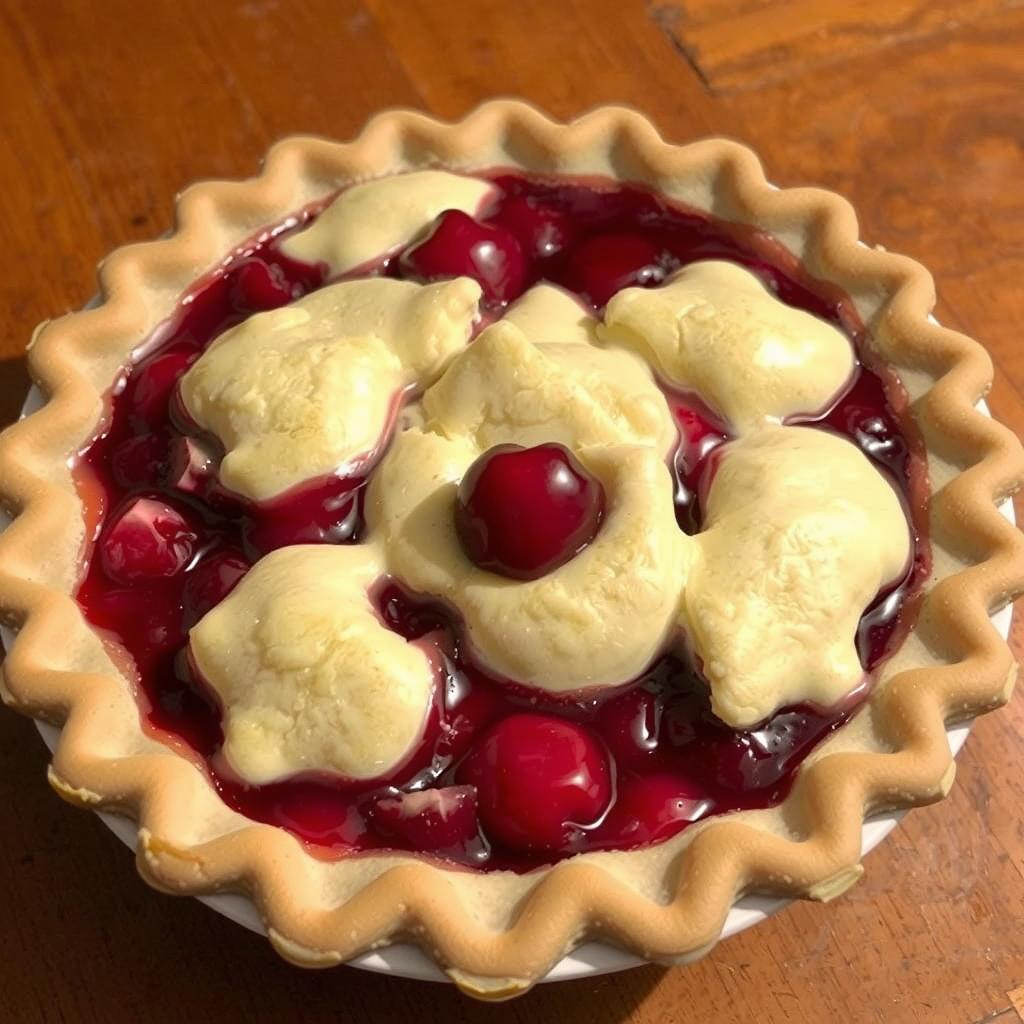pie: (0, 91, 1024, 1013)
